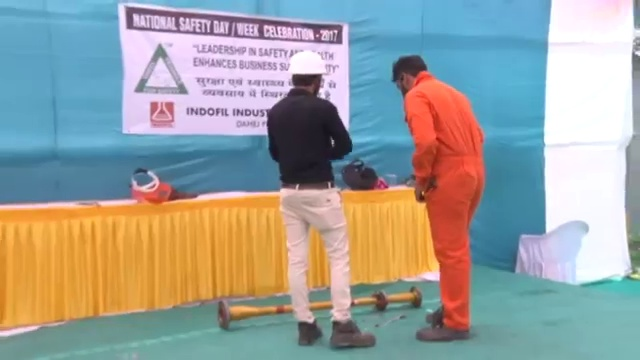helmet: (285, 51, 328, 76)
helmet_off: (387, 54, 428, 96)
helmet_on: (284, 50, 329, 98)
person: (267, 48, 376, 349), (386, 52, 488, 344)
